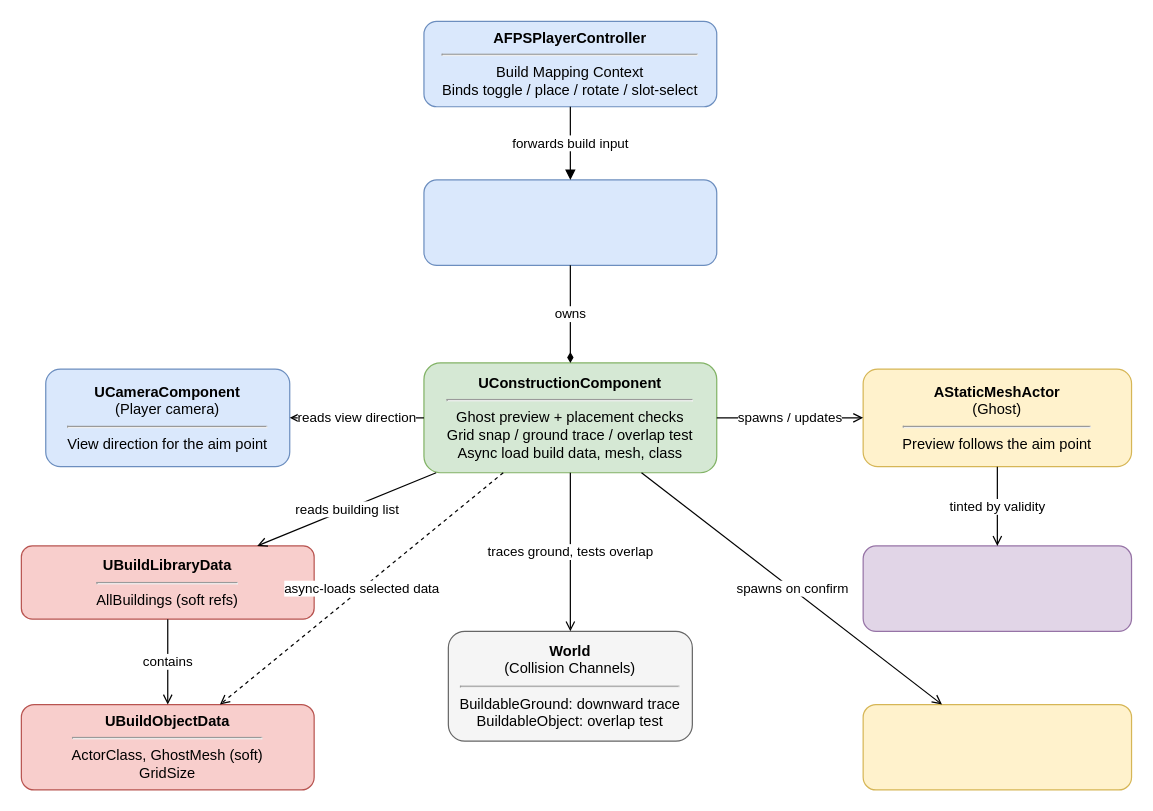
Some shapes in this 1153 by 811 pixel diagram are drawn without their labels. The centre of each missing label's shape, as x and y in pixels:
"AFPSCharacter Owns UConstructionComponent Forwards build commands" goes at (570,222).
"Placed Actor Spawned from ActorClass Created on confirm" goes at (997,746).
"UMaterialInstanceDynamic Color + Opacity parameters Green = valid, red = blocked" goes at (997,588).
